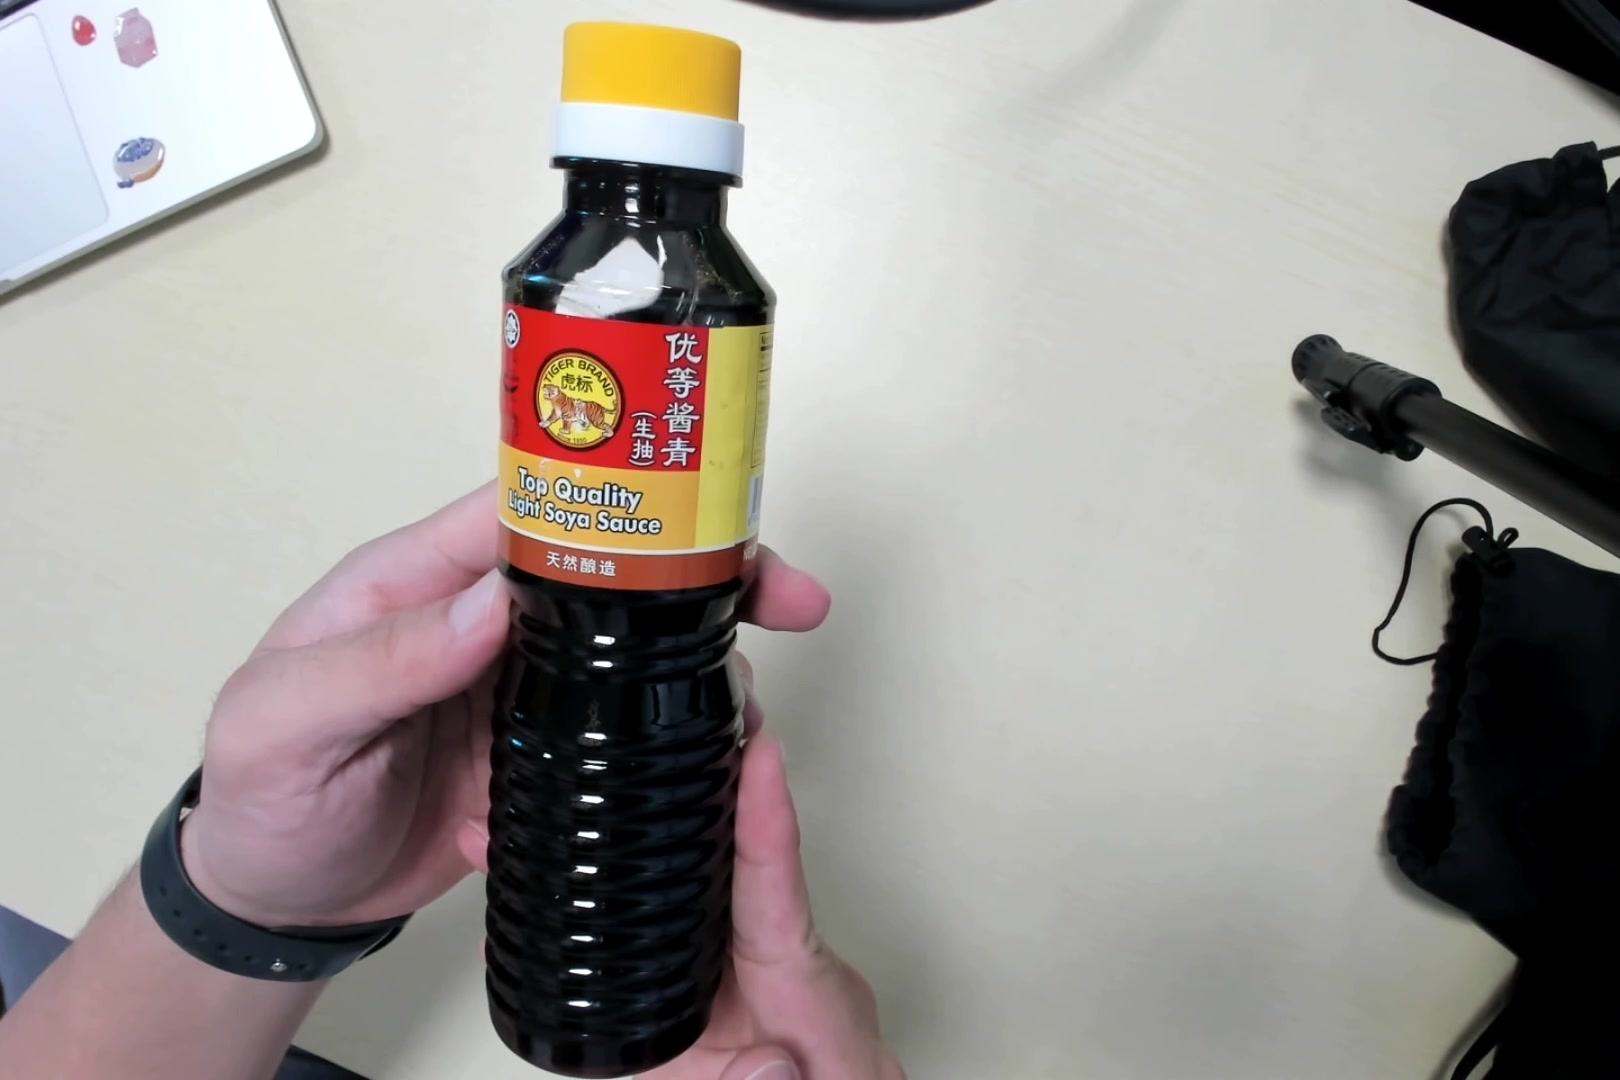LightSoySauce_300-399g_Halal_NonHealthy: (485, 14, 774, 1080)
